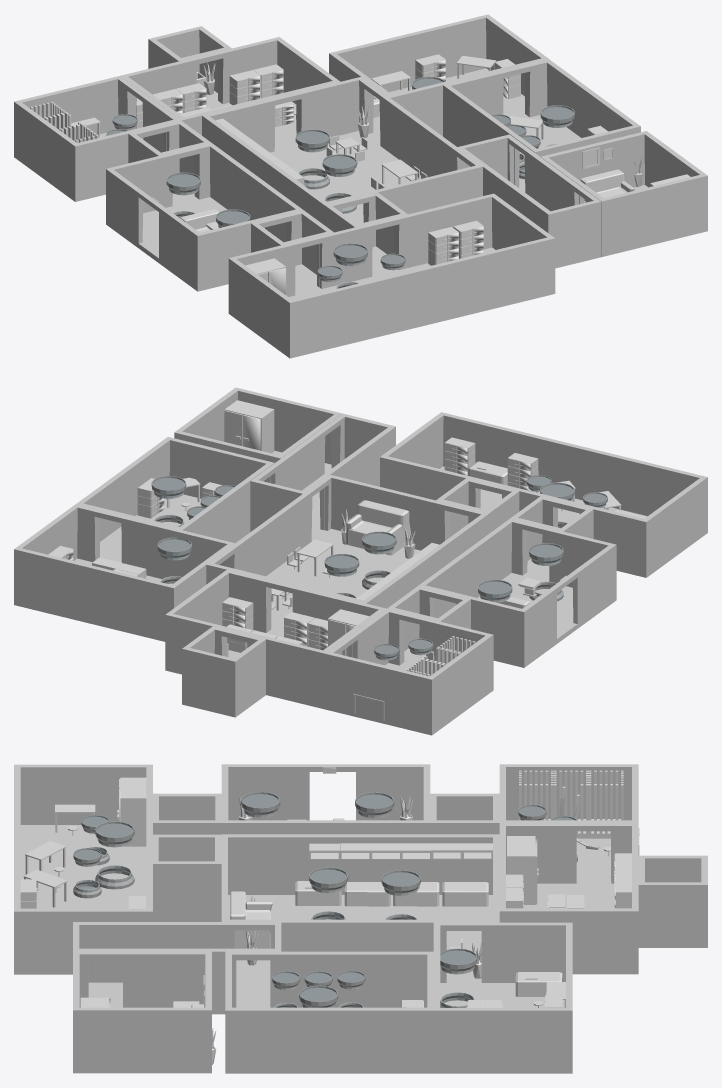
3 renders of one model, top to bottom at view 1: azimuth 30°, elevation 25°; view 2: azimuth 150°, elevation 25°; view 3: azimuth 270°, elevation 25°, orthographic. The views are drawn at different scales.
Parts seen in each view (by area): view 1: room.020, room.028, room.018, room.021, room.002, room.029, room.022, room.023, room.013, room.019, room.030, room.025 (+14 smaller); view 2: room.020, room.029, room.028, room.018, room.002, room.013, room.022, room.023, room.030, room.021, room.016, room.019 (+17 smaller); view 3: room.022, room.028, room.020, room.029, room.021, room.013, room.018, room.023, room.002, room.030, room.025, room.016 (+33 smaller).
Boxes of the visible parts, x1=… form: room.020: x1=228, y1=193, x2=555, y2=358; room.028: x1=202, y1=77, x2=482, y2=224; room.018: x1=106, y1=143, x2=303, y2=291; room.021: x1=541, y1=131, x2=707, y2=256; room.002: x1=14, y1=76, x2=180, y2=201; room.029: x1=329, y1=14, x2=548, y2=141; room.022: x1=443, y1=59, x2=640, y2=192; room.023: x1=457, y1=134, x2=601, y2=268; room.013: x1=120, y1=37, x2=340, y2=148; room.019: x1=251, y1=210, x2=333, y2=293; room.030: x1=148, y1=26, x2=231, y2=105; room.025: x1=324, y1=192, x2=407, y2=274; room.020: x1=380, y1=412, x2=707, y2=577; room.029: x1=14, y1=504, x2=234, y2=641; room.028: x1=206, y1=474, x2=489, y2=634; room.018: x1=418, y1=518, x2=616, y2=667; room.002: x1=325, y1=609, x2=493, y2=735; room.013: x1=165, y1=569, x2=386, y2=709; room.022: x1=76, y1=437, x2=274, y2=562; room.023: x1=250, y1=413, x2=395, y2=538; room.030: x1=182, y1=626, x2=265, y2=717; room.021: x1=174, y1=387, x2=342, y2=473; room.016: x1=387, y1=586, x2=470, y2=665; room.019: x1=510, y1=496, x2=593, y2=579; room.022: x1=225, y1=951, x2=433, y2=1073; room.028: x1=221, y1=834, x2=499, y2=980; room.020: x1=14, y1=764, x2=152, y2=974; room.029: x1=433, y1=922, x2=572, y2=1073; room.021: x1=73, y1=951, x2=211, y2=1073; room.013: x1=499, y1=823, x2=638, y2=974; room.018: x1=221, y1=764, x2=430, y2=834; room.023: x1=73, y1=922, x2=281, y2=1014; room.002: x1=499, y1=764, x2=638, y2=881; room.030: x1=638, y1=855, x2=707, y2=947; room.025: x1=152, y1=834, x2=221, y2=921; room.016: x1=430, y1=793, x2=499, y2=834.
Bounding box in the file's own units: 2516 × 304 × 2996.
